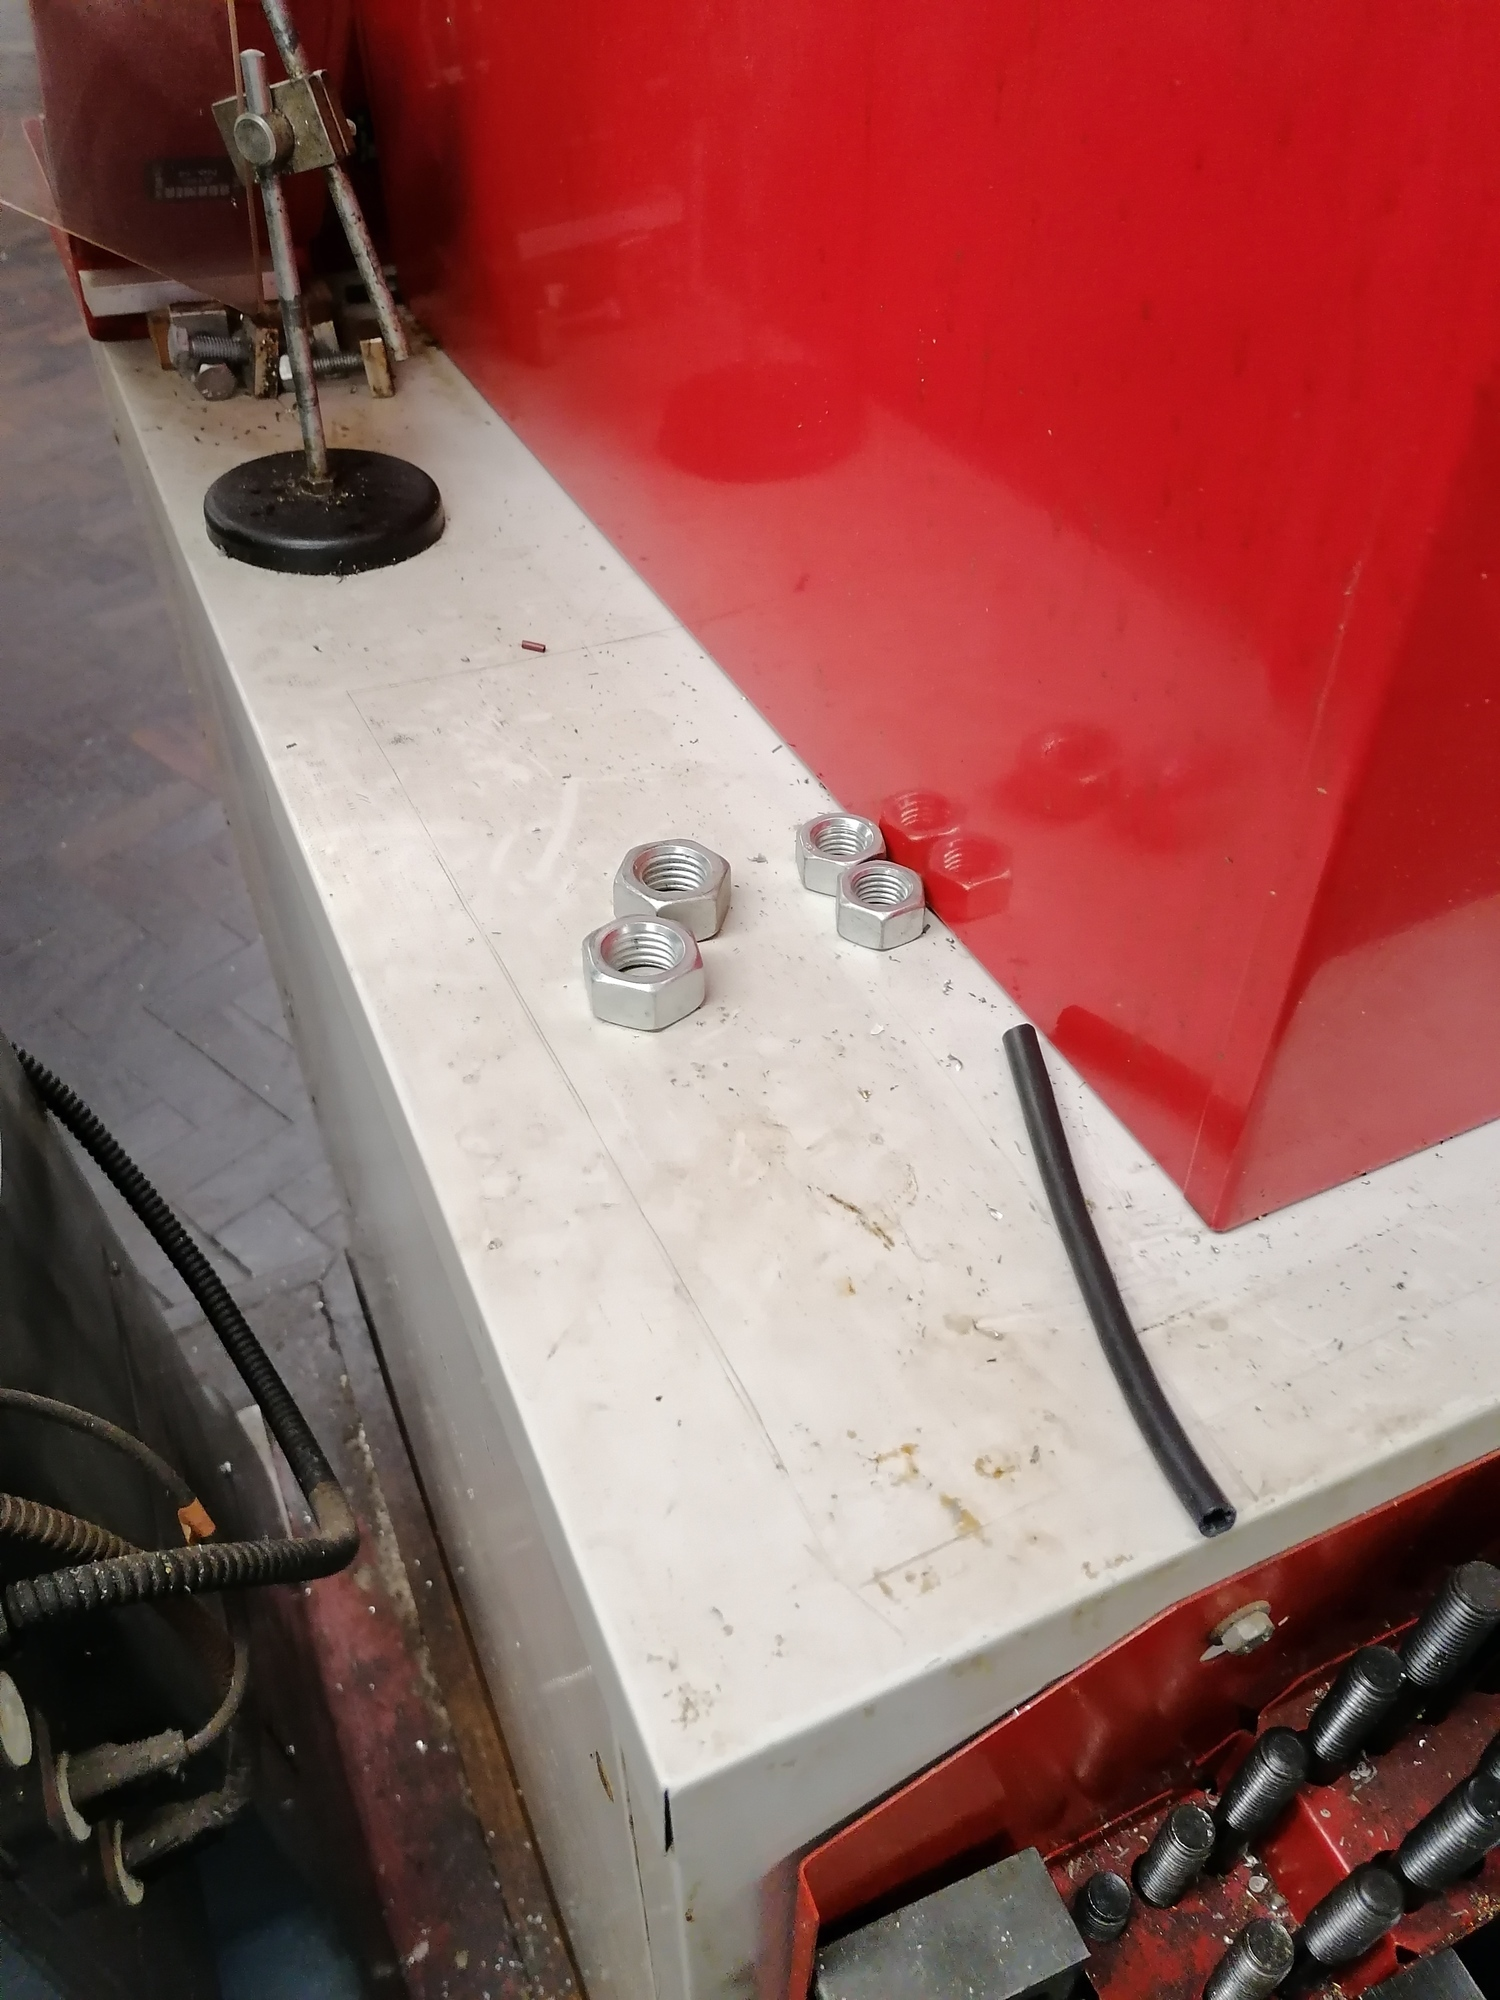bolt: (1284, 1860, 1405, 1998), (1298, 1643, 1409, 1784), (1402, 1557, 1500, 1717), (1209, 1724, 1309, 1871), (1387, 1775, 1498, 1906), (1133, 1802, 1216, 1906), (1201, 1915, 1297, 1998), (1071, 1869, 1136, 1943), (277, 345, 362, 391), (165, 321, 246, 365), (191, 357, 238, 402)
nut: (578, 912, 707, 1033), (610, 836, 733, 940), (830, 858, 930, 950), (793, 809, 890, 894)
